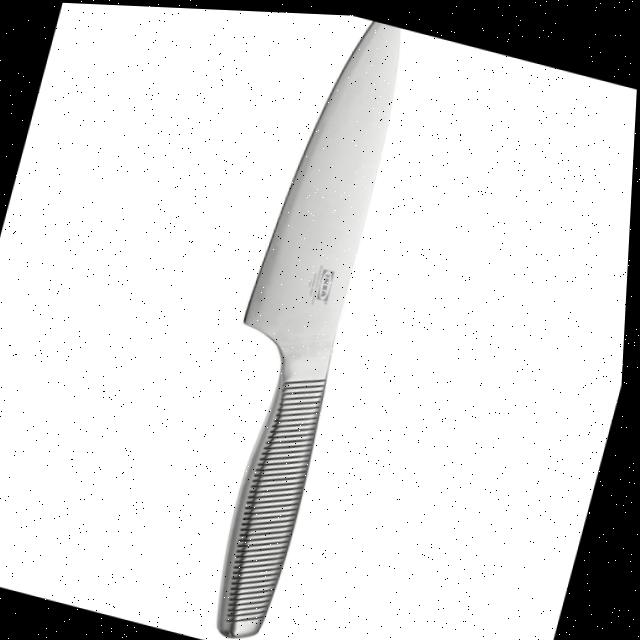knife: (163, 7, 425, 640)
